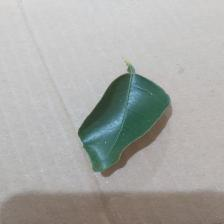healthy: (77, 72, 177, 176)
